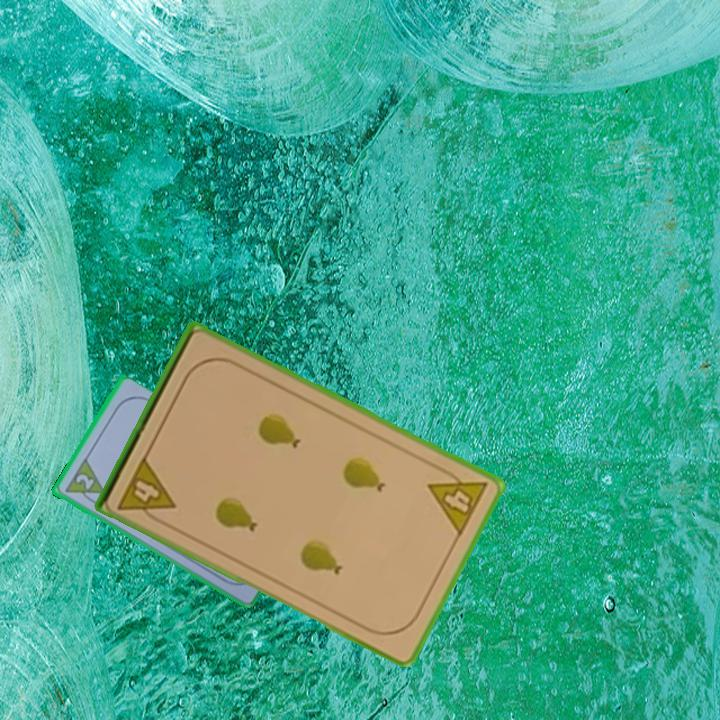2p: (60, 456, 107, 508)
4p: (424, 462, 491, 539), (114, 452, 179, 528)
